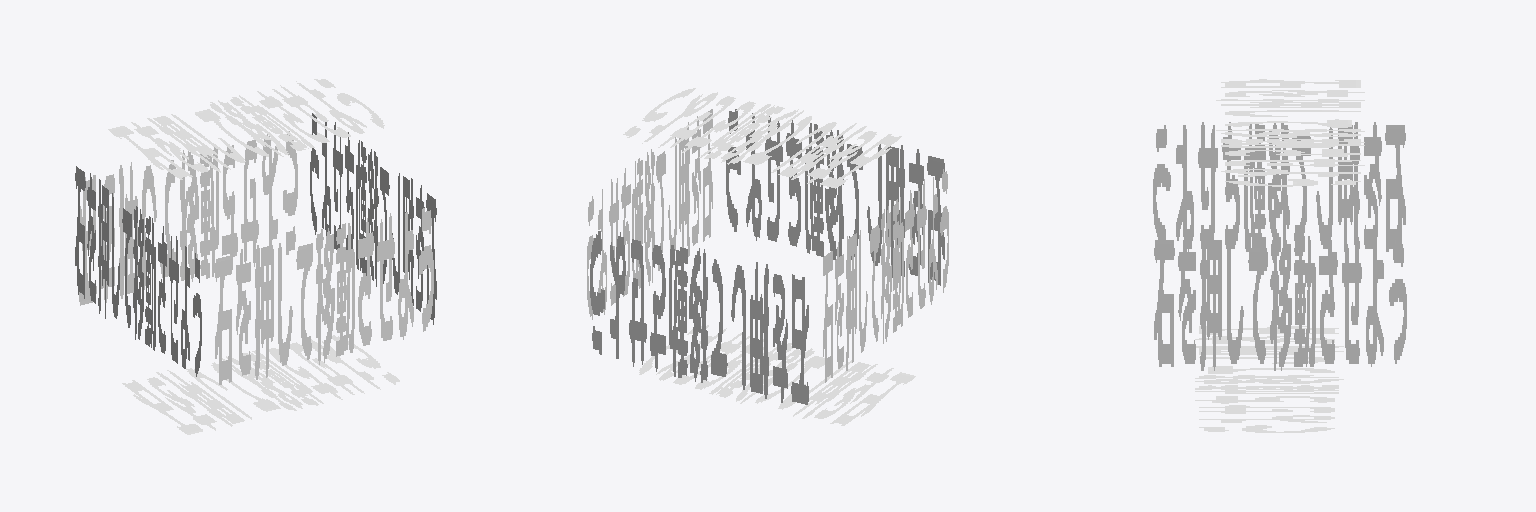
3 renders of one model, left to right at view 1: azimuth 30°, elevation 25°; view 2: azimuth 150°, elevation 25°; view 3: azimuth 270°, elevation 25°, orthographic.
Visible parts, largest first — view 1: StoneLogo; view 2: StoneLogo; view 3: StoneLogo.
Boxes of the visible parts, box(x1,y1,x2,y2) form: StoneLogo: box(75, 79, 436, 434); StoneLogo: box(587, 88, 948, 425); StoneLogo: box(1153, 79, 1406, 432).
Bounding box in the file's own units: 2 × 2 × 2.
Materials: 1 (1 with a texture image).